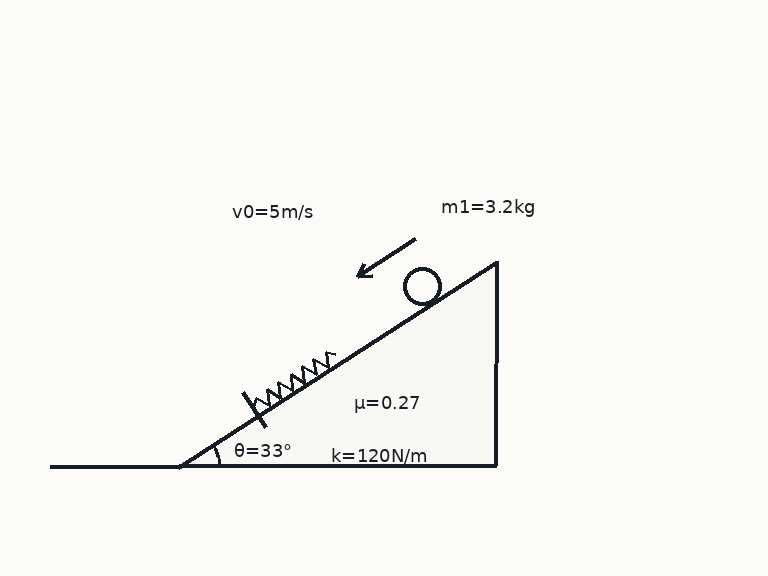ball: (401, 265, 443, 307)
ramp: (177, 259, 497, 468)
spring: (251, 350, 337, 409)
